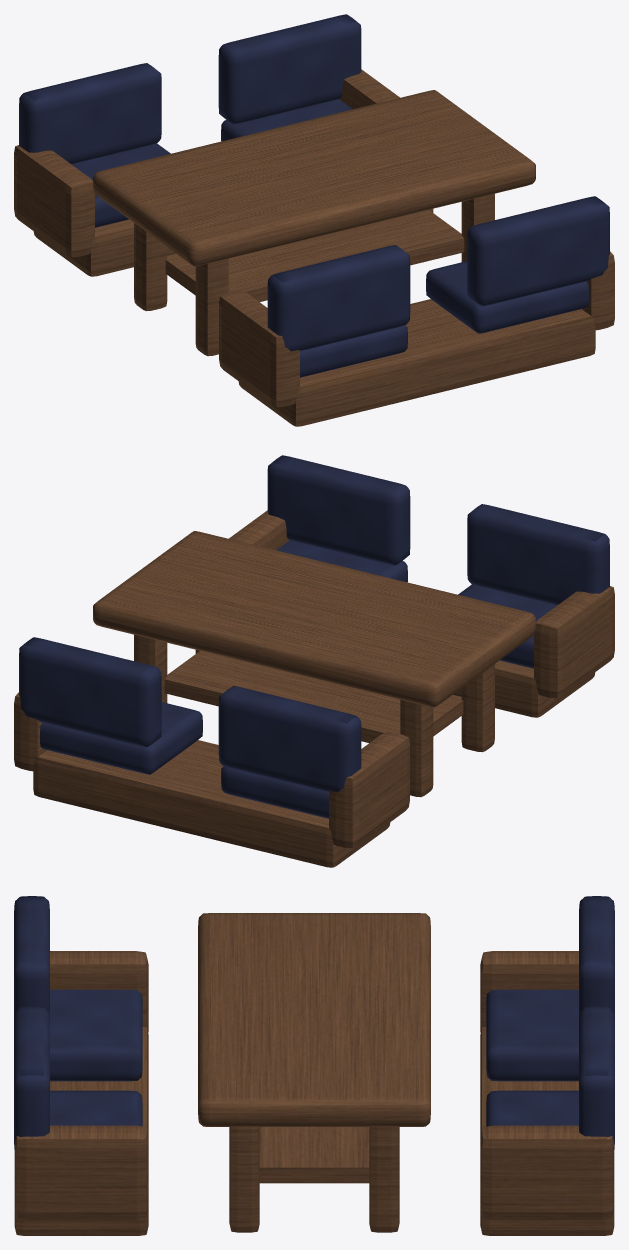
Rendered from table-4.glb.
3 views of the same model, one above another, from view 1: azimuth 30°, elevation 25°; view 2: azimuth 150°, elevation 25°; view 3: azimuth 270°, elevation 25° (orthographic). The views are drawn at different scales.
Parts seen in each view (by area): view 1: T4-Sofas, T4-Wood, T4-Top; view 2: T4-Sofas, T4-Wood, T4-Top; view 3: T4-Wood, T4-Top, T4-Sofas.
Part boxes in pixels (x1,y1,x2,y2): T4-Sofas: (19, 14, 609, 377); T4-Wood: (14, 69, 614, 426); T4-Top: (93, 90, 535, 266); T4-Sofas: (19, 455, 609, 818); T4-Wood: (14, 510, 614, 867); T4-Top: (93, 531, 535, 707); T4-Wood: (14, 951, 614, 1235); T4-Top: (198, 913, 430, 1126); T4-Sofas: (14, 896, 614, 1149).
Bounding box in the file's own units: 0.078 × 0.032 × 0.1032.
3 materials, 3 textured.
